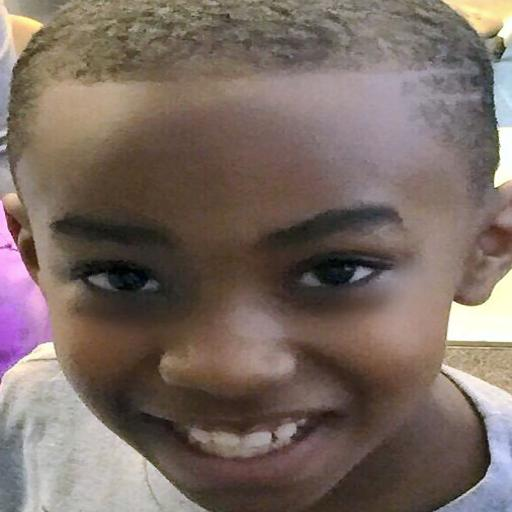Autism: (11, 9, 512, 499)
